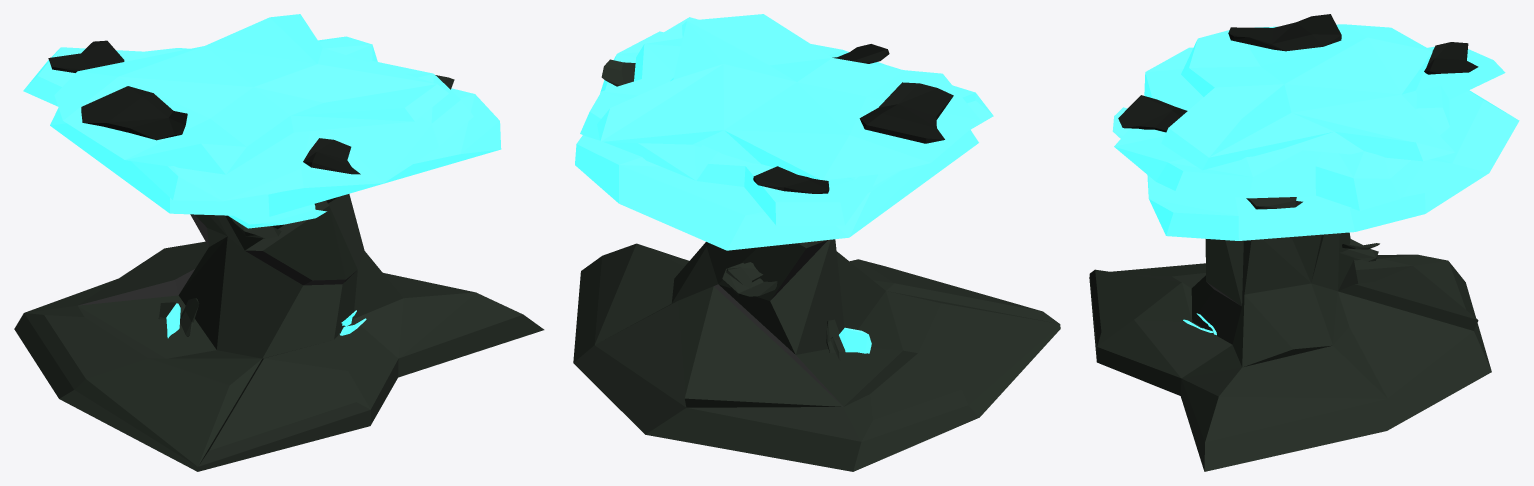
The model's file is SM_Relief_Element_08.glb.
The picture shows the model from 3 angles, left to right: view 1: azimuth 30°, elevation 25°; view 2: azimuth 150°, elevation 25°; view 3: azimuth 270°, elevation 25°; orthographic projection. The views are drawn at different scales.
Parts seen in each view (by area): view 1: SM_Relief_Element_08; view 2: SM_Relief_Element_08; view 3: SM_Relief_Element_08.
Part boxes in pixels (left/top/right/bottom): SM_Relief_Element_08: left=14, top=14, right=544, bottom=471; SM_Relief_Element_08: left=573, top=14, right=1060, bottom=471; SM_Relief_Element_08: left=1089, top=14, right=1519, bottom=471.
Bounding box in the file's own units: 1.05 × 0.6466 × 0.9165.
2 materials, 1 textured.
